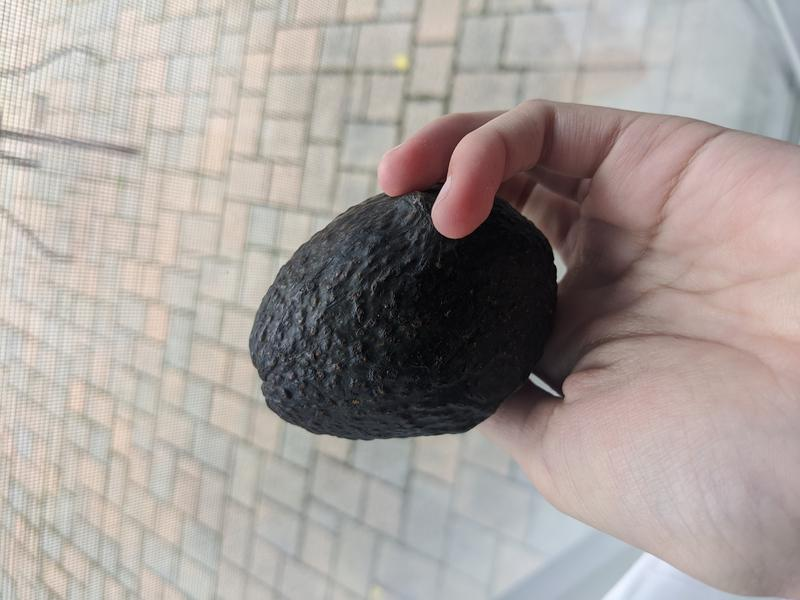avocado: (246, 185, 560, 442)
